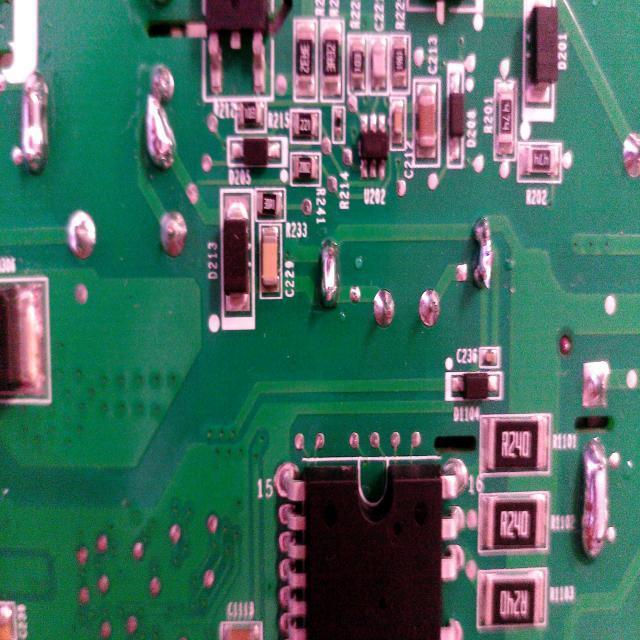Soldering shorted: (140, 64, 180, 172), (582, 434, 610, 566), (20, 68, 50, 172), (316, 234, 341, 312), (471, 215, 494, 296)
